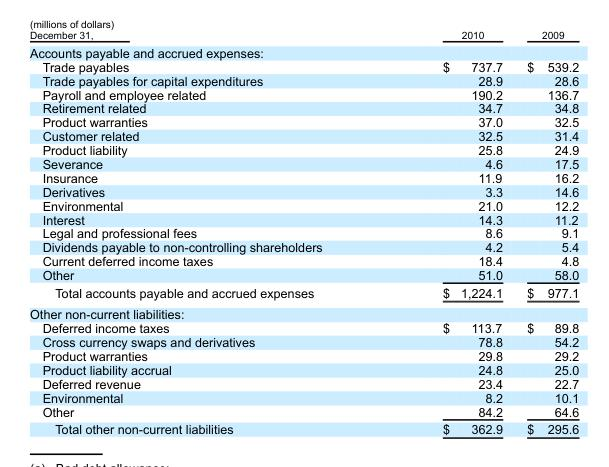table: (29, 28, 578, 435)
table column: (29, 28, 381, 435), (381, 28, 514, 435), (514, 28, 578, 435)
table column header: (29, 28, 578, 42)
table projected row header: (29, 303, 578, 321), (29, 42, 578, 59)
table row: (29, 283, 578, 303), (29, 303, 578, 321), (29, 42, 578, 59), (29, 267, 578, 283), (29, 404, 578, 420), (29, 420, 578, 435), (29, 28, 578, 42), (29, 59, 578, 73), (29, 73, 578, 87), (29, 87, 578, 101), (29, 114, 578, 128), (29, 128, 578, 142), (29, 142, 578, 156), (29, 156, 578, 170), (29, 170, 578, 184), (29, 184, 578, 198), (29, 198, 578, 212), (29, 212, 578, 226), (29, 239, 578, 253), (29, 253, 578, 267), (29, 334, 578, 348), (29, 348, 578, 362), (29, 362, 578, 376), (29, 376, 578, 390), (29, 390, 578, 404), (29, 101, 578, 114), (29, 226, 578, 239), (29, 321, 578, 334)
